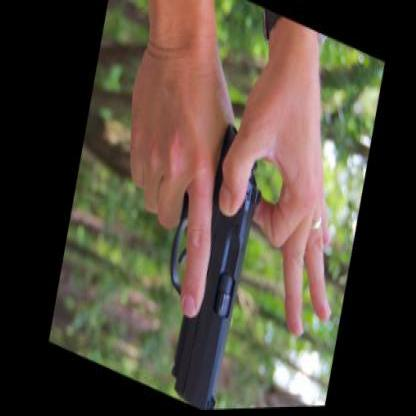pistol: (132, 84, 283, 408)
